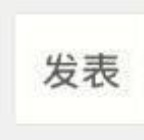Button: (1, 1, 143, 139)
